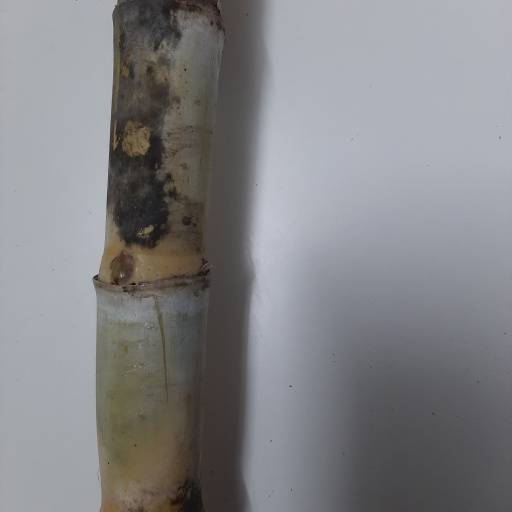Bud: (110, 254, 134, 284)
